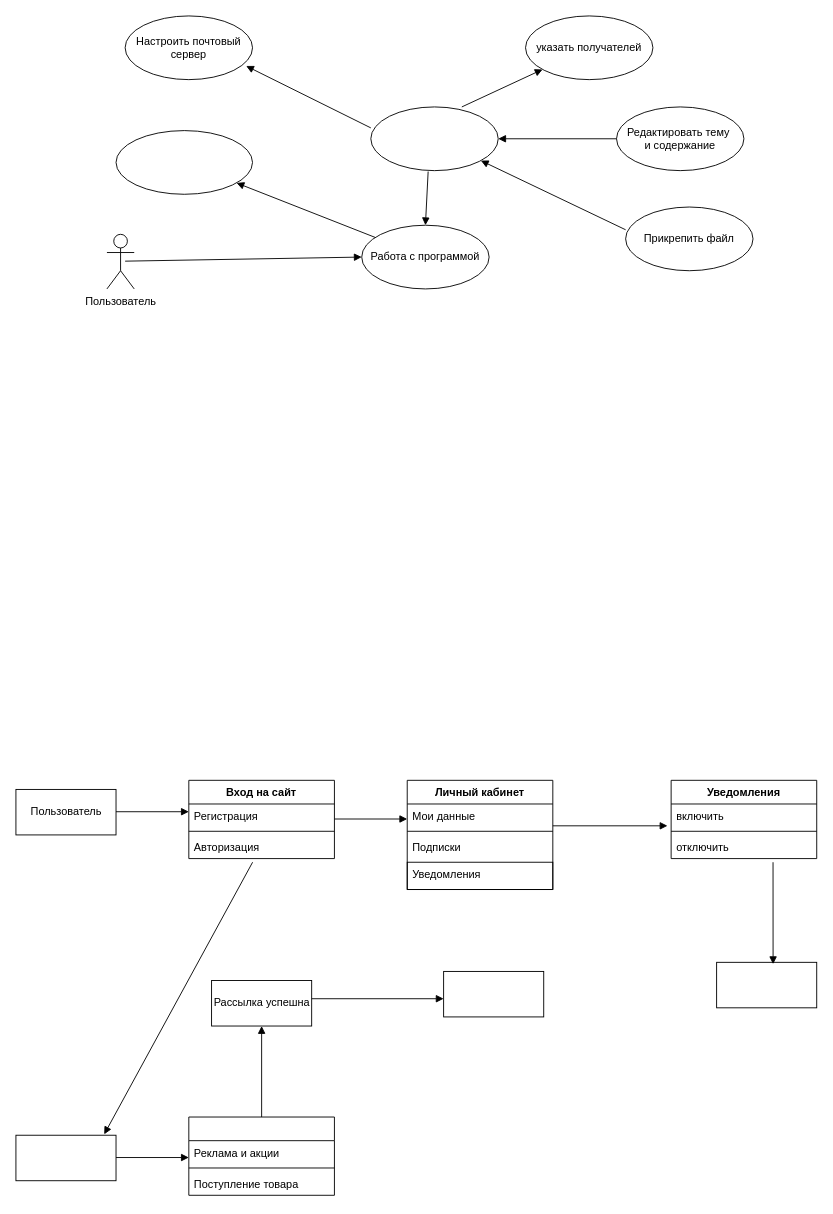
The diagram is 833 pixels wide and 1214 high, and some of its shapes have lost their labels. The box of each missing label's shape, as (x1, y1, x2, y2) in pixels:
Вкл уведомления: (443, 971, 544, 1017)
Компания: (15, 1134, 116, 1181)
Массовая рассылка: (188, 1116, 334, 1195)
откл уведомления: (716, 961, 817, 1008)
Отправить письмо: (370, 106, 498, 171)
пройти аутинтефикацию: (115, 130, 253, 194)
